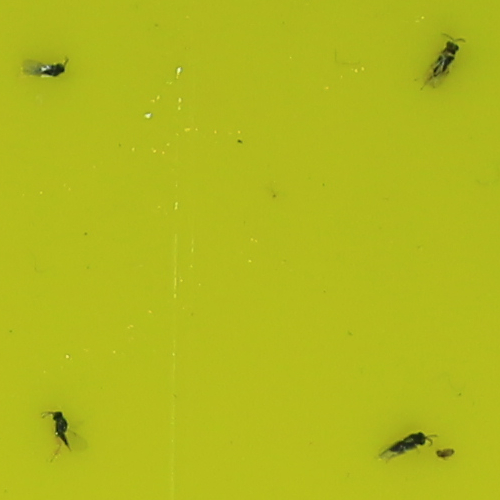Psyllaephagus: (428, 40, 461, 78), (389, 430, 426, 457), (52, 411, 70, 450), (29, 61, 64, 78)
